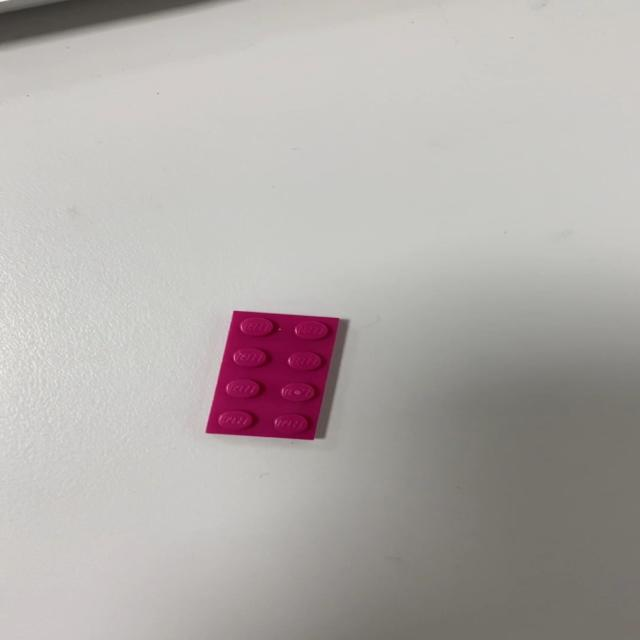C4x2x0: (199, 310, 337, 441)
